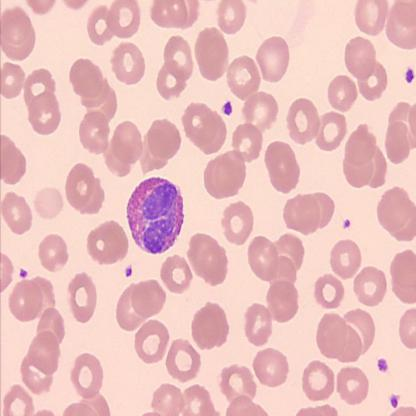Eosinophil: (126, 176, 185, 254)
